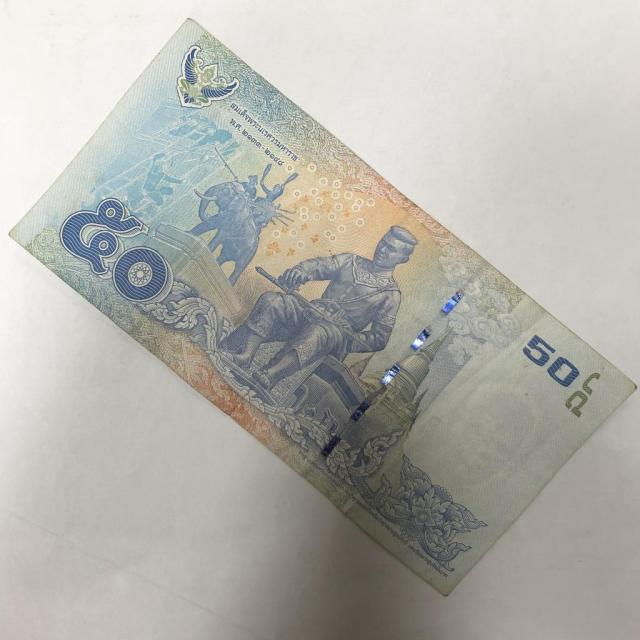THAI50: (11, 20, 635, 594)
